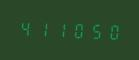five: (86, 20, 102, 41)
four: (17, 18, 33, 38)
one: (34, 18, 50, 39), (52, 19, 68, 39)
zero: (69, 19, 85, 40), (103, 21, 119, 41)
